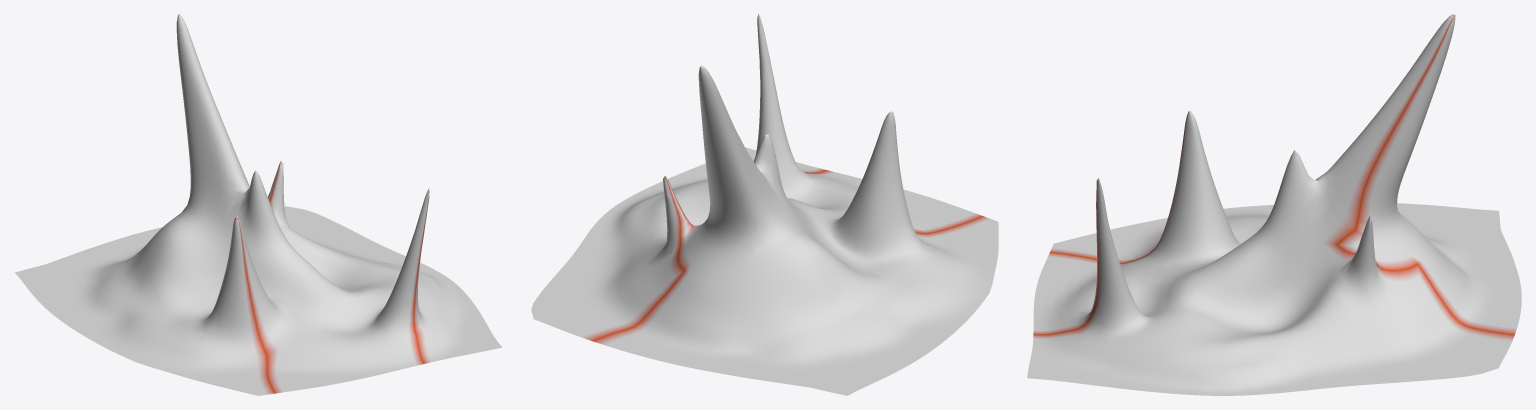
The model's file is fbx_TestBlight.fbx.
3 views of the same model, side by side, from view 1: azimuth 30°, elevation 25°; view 2: azimuth 150°, elevation 25°; view 3: azimuth 270°, elevation 25° (orthographic). The views are drawn at different scales.
Parts seen in each view (by area): view 1: Plane3D_1_SeamsColor; view 2: Plane3D_1_SeamsColor; view 3: Plane3D_1_SeamsColor.
Boxes of the visible parts, bbox=[...] form: Plane3D_1_SeamsColor: bbox=[14, 14, 502, 395]; Plane3D_1_SeamsColor: bbox=[531, 14, 998, 395]; Plane3D_1_SeamsColor: bbox=[1027, 14, 1521, 395].
Size of the model in its own units: 150 by 102 by 162.
